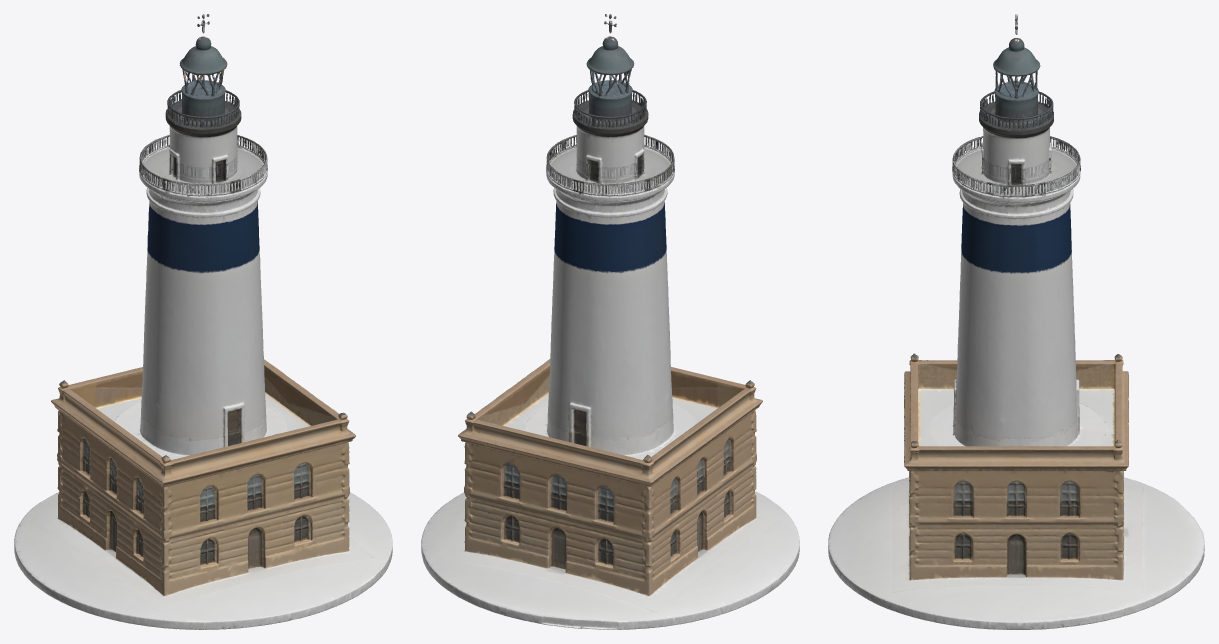
The model's file is lafarola.glb.
3 renders of one model, left to right at view 1: azimuth 30°, elevation 25°; view 2: azimuth 150°, elevation 25°; view 3: azimuth 270°, elevation 25°, orthographic.
Size of the model in its own units: 1.21 by 1.9 by 1.21.
Materials: 1 (1 with a texture image).
